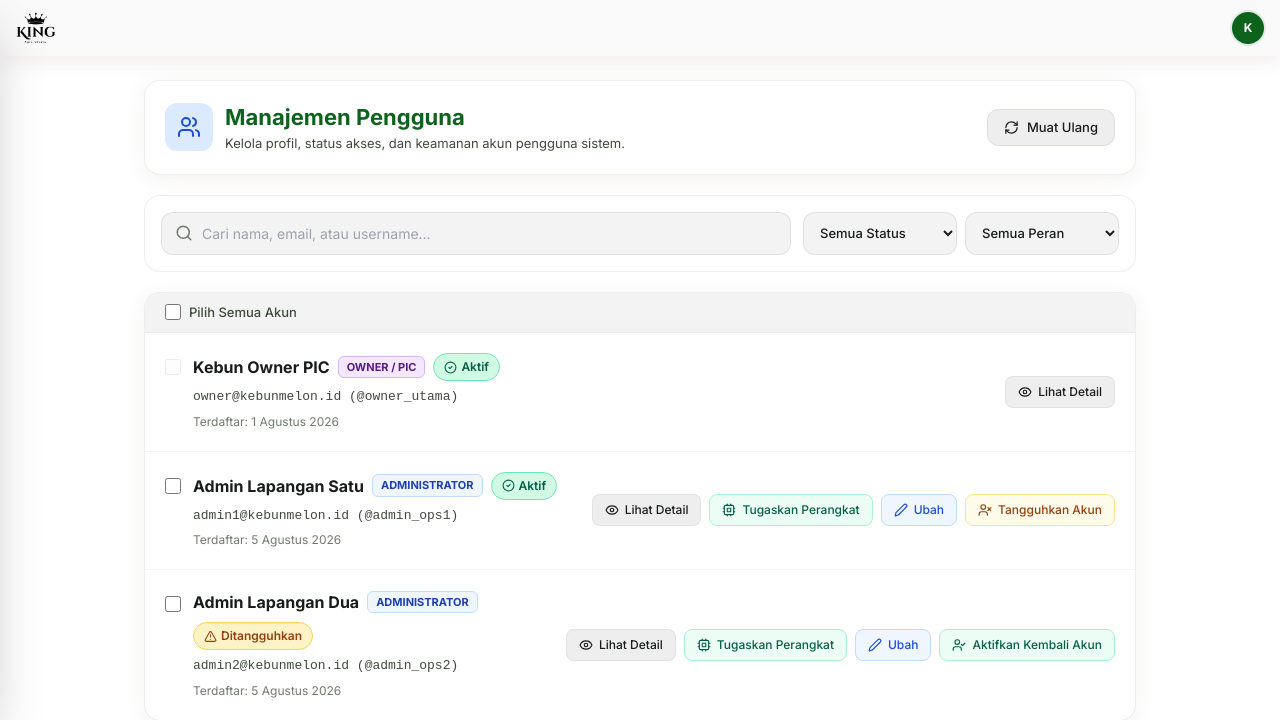
Test case: TASK-0212 User Management UI Improvements › 7. User Detail modal renders translated role labels
expect the heading "Admin Lapangan Satu" is shown: met, box [193,474,364,498]
Click the button "Lihat Detail" next to "(@admin_ops1)" at (646, 510), box [592,494,701,526]
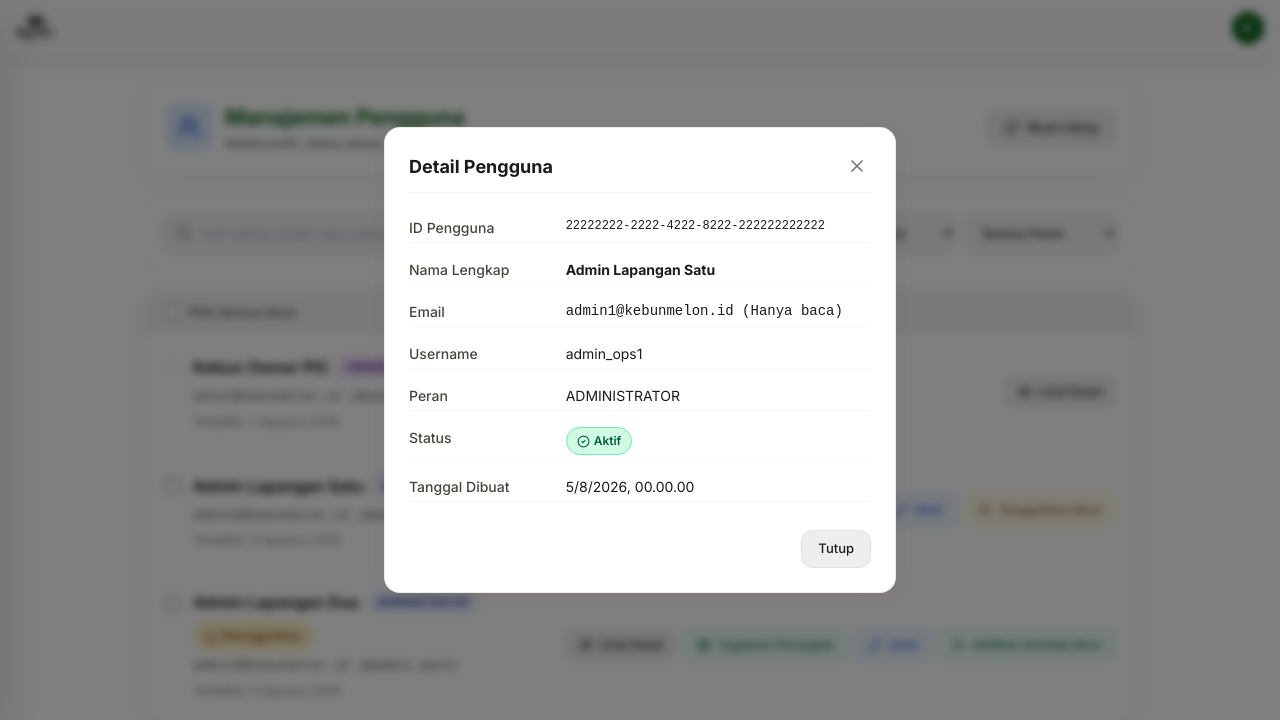
expect the heading "Detail Pengguna" is shown: met, box [409,153,553,180]
expect the text "ADMINISTRATOR" is shown: met, box [566,387,680,404]
